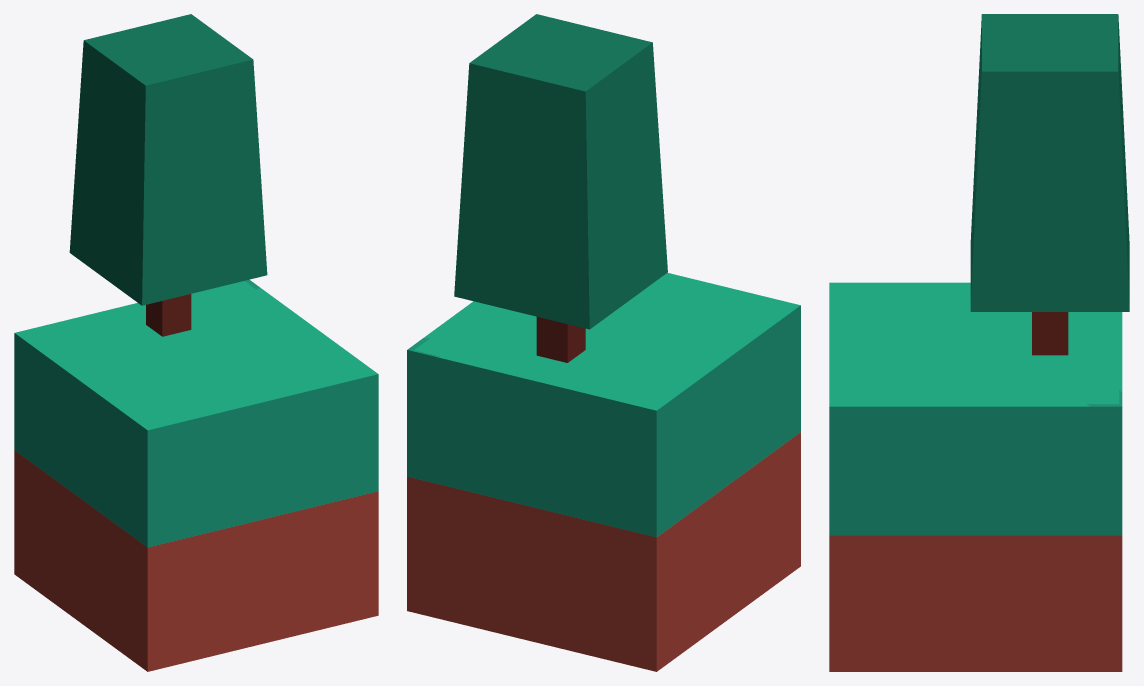
The model's file is 나무나무.FBX.
The picture shows the model from 3 angles, left to right: view 1: azimuth 30°, elevation 25°; view 2: azimuth 150°, elevation 25°; view 3: azimuth 270°, elevation 25°; orthographic projection. The views are drawn at different scales.
Visible parts, largest first — view 1: Box001; view 2: Box001; view 3: Box001.
Part boxes in pixels (bbox=[...]): Box001: bbox=[14, 14, 378, 671]; Box001: bbox=[407, 14, 800, 671]; Box001: bbox=[829, 14, 1129, 671].
Bounding box in the file's own units: 39.37 × 84.59 × 40.37.
